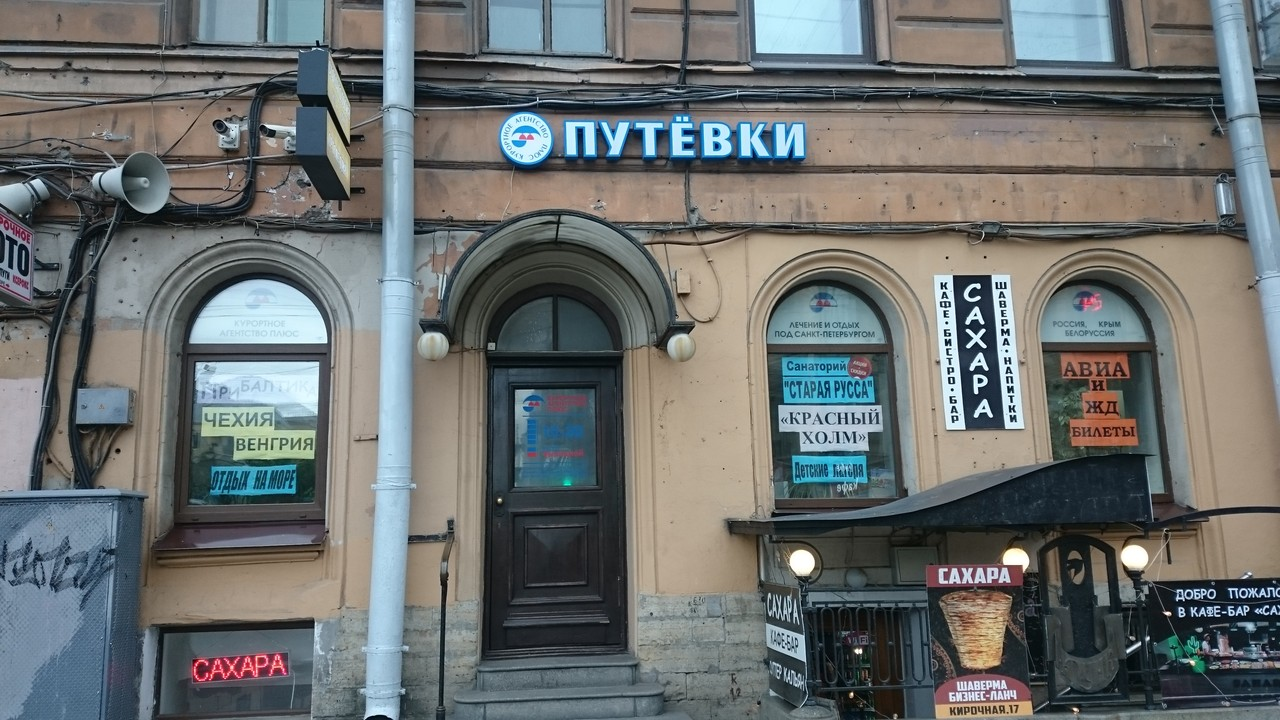cantilever: (298, 47, 372, 216)
door: (483, 356, 623, 658)
signboard: (497, 112, 807, 170)
window: (178, 266, 332, 524), (769, 280, 902, 513), (1042, 272, 1176, 502)
